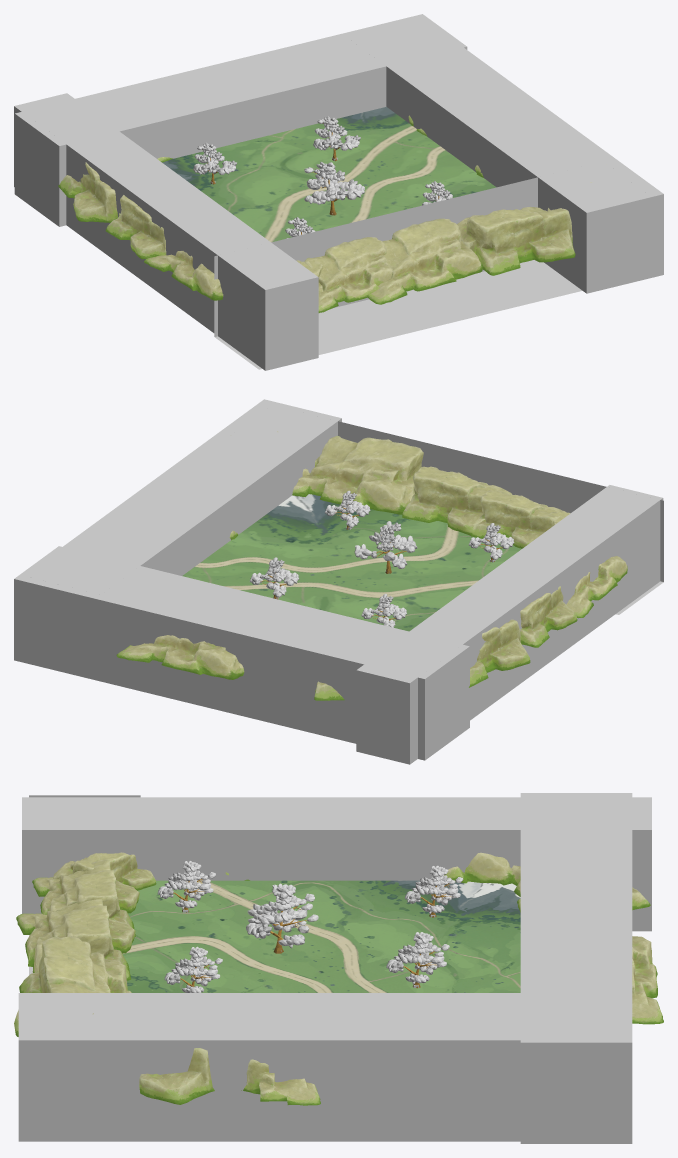
Rendered from ghibli-spworld-tutorial.glb.
3 views of the same model, one above another, from view 1: azimuth 30°, elevation 25°; view 2: azimuth 150°, elevation 25°; view 3: azimuth 270°, elevation 25° (orthographic). The views are drawn at different scales.
Parts seen in each view (by area): view 1: obstacle-invisible-mountain.003, obstacle-invisible-mountain.002, obstacle-invisible-mountain.001, floor, obstacle-invisible-mountain.014, mountain.012, mountain.011, mountain.010, mountain.004, mountain.005, mountain.009, leafs.002 (+2 smaller); view 2: obstacle-invisible-mountain.001, obstacle-invisible-mountain.002, obstacle-invisible-mountain.003, floor, mountain.012, obstacle-invisible-mountain.014, mountain.011, mountain.001, mountain.010, mountain.004, mountain.005, mountain.009 (+5 smaller); view 3: obstacle-invisible-mountain.003, obstacle-invisible-mountain.002, floor, obstacle-invisible-mountain.001, mountain.011, mountain.012, mountain.010, leafs.002, mountain.013, mountain.001, mountain.008, mountain.014 (+6 smaller).
Part boxes in pixels (x1,y1,x2,y2): obstacle-invisible-mountain.003: [348, 19, 663, 293]; obstacle-invisible-mountain.002: [14, 93, 318, 370]; obstacle-invisible-mountain.001: [14, 14, 467, 226]; floor: [162, 107, 496, 242]; obstacle-invisible-mountain.014: [214, 177, 582, 369]; mountain.012: [457, 206, 575, 275]; mountain.011: [367, 218, 482, 304]; mountain.010: [304, 237, 392, 312]; mountain.004: [58, 162, 120, 222]; mountain.005: [105, 195, 166, 259]; mountain.009: [144, 251, 223, 300]; leafs.002: [304, 162, 364, 204]; obstacle-invisible-mountain.001: [14, 546, 469, 760]; obstacle-invisible-mountain.002: [356, 485, 663, 764]; obstacle-invisible-mountain.003: [23, 399, 341, 594]; floor: [182, 494, 521, 631]; mountain.012: [292, 435, 423, 514]; obstacle-invisible-mountain.014: [338, 421, 663, 614]; mountain.011: [402, 466, 512, 535]; mountain.001: [116, 635, 244, 679]; mountain.010: [470, 490, 561, 548]; mountain.004: [469, 619, 530, 687]; mountain.005: [520, 586, 577, 647]; mountain.009: [566, 556, 627, 618]; obstacle-invisible-mountain.003: [18, 993, 618, 1141]; obstacle-invisible-mountain.002: [22, 797, 651, 931]; floor: [122, 880, 520, 992]; obstacle-invisible-mountain.001: [520, 793, 632, 1143]; mountain.011: [16, 899, 135, 980]; mountain.012: [14, 936, 131, 1036]; mountain.010: [32, 860, 139, 936]; leafs.002: [246, 883, 318, 948]; mountain.013: [92, 1013, 241, 1104]; mountain.001: [632, 936, 663, 1024]; mountain.008: [243, 1059, 320, 1105]; mountain.014: [53, 852, 156, 890].
Bounding box in the file's own units: 340 × 66.46 × 341.
4 materials, 4 textured.
